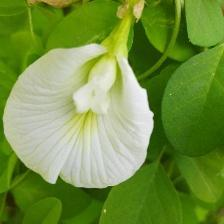shankupushpam: (1, 41, 162, 195)
